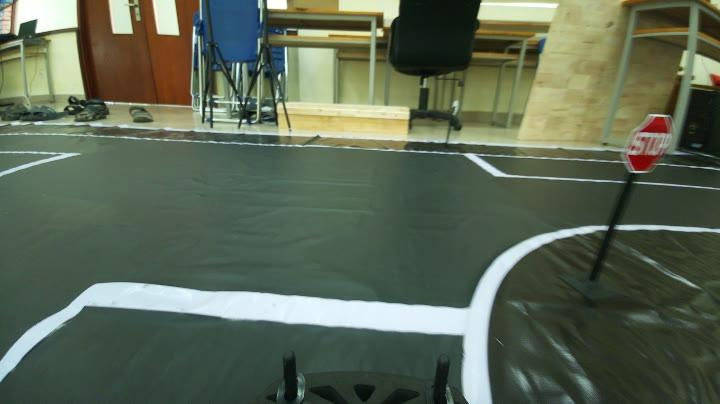stop: (624, 108, 676, 176)
